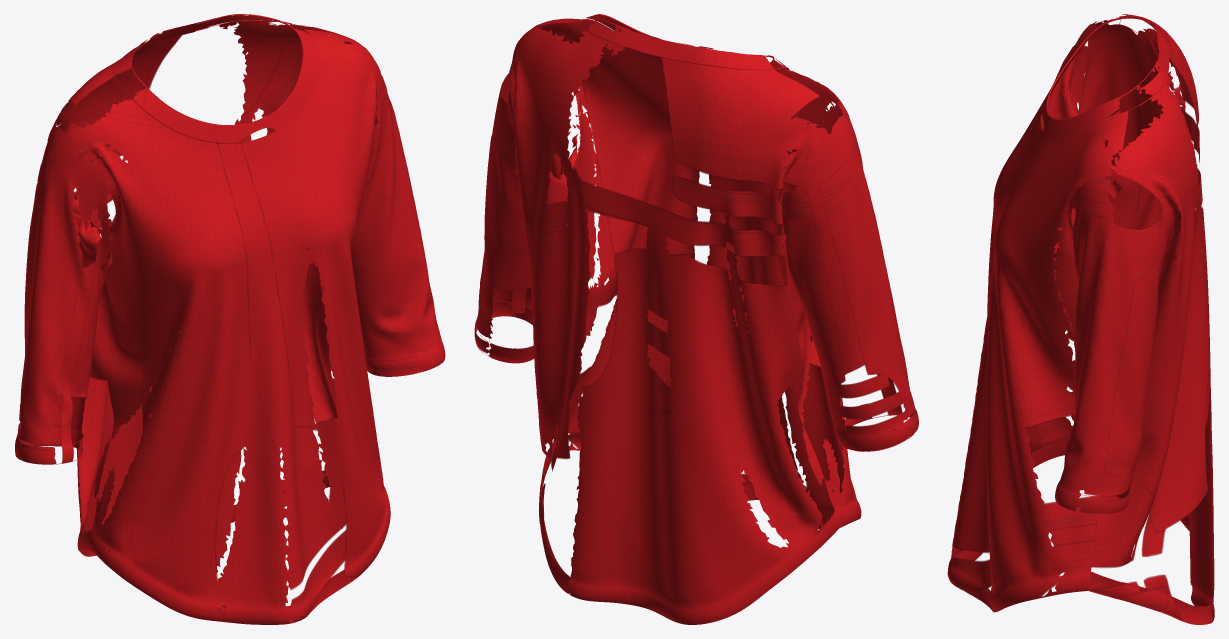
The model's file is tshirt.glb.
3 views of the same model, side by side, from view 1: azimuth 30°, elevation 25°; view 2: azimuth 150°, elevation 25°; view 3: azimuth 270°, elevation 25° (orthographic). The views are drawn at different scales.
Visible parts, largest first — view 1: Front body, Right sleeve, Back body, Left sleeve, Collar, Women Stretch Cotton Tee.002; view 2: Back body, Front body, Right sleeve, Left sleeve, Collar, Women Stretch Cotton Tee.002; view 3: Front body, Back body, Left sleeve, Right sleeve, Collar, Women Stretch Cotton Tee.002.
Boxes of the visible parts, x1,y1,x2,y2 form: Front body: (60,29,390,624); Right sleeve: (15,128,113,464); Back body: (48,20,352,556); Left sleeve: (351,60,445,376); Collar: (95,14,317,242); Women Stretch Cotton Tee.002: (42,20,391,556); Back body: (509,27,838,624); Front body: (531,18,861,528); Right sleeve: (782,114,918,451); Left sleeve: (474,70,580,363); Collar: (579,14,791,75); Women Stretch Cotton Tee.002: (477,20,849,603); Front body: (947,18,1128,612); Back body: (1088,14,1214,624); Left sleeve: (1055,174,1170,513); Right sleeve: (1067,24,1168,341); Collar: (1040,16,1169,137); Women Stretch Cotton Tee.002: (1056,18,1210,624).
Size of the model in its own units: 0.3603 by 0.4427 by 0.1947.
Materials: 1 (1 with a texture image).
